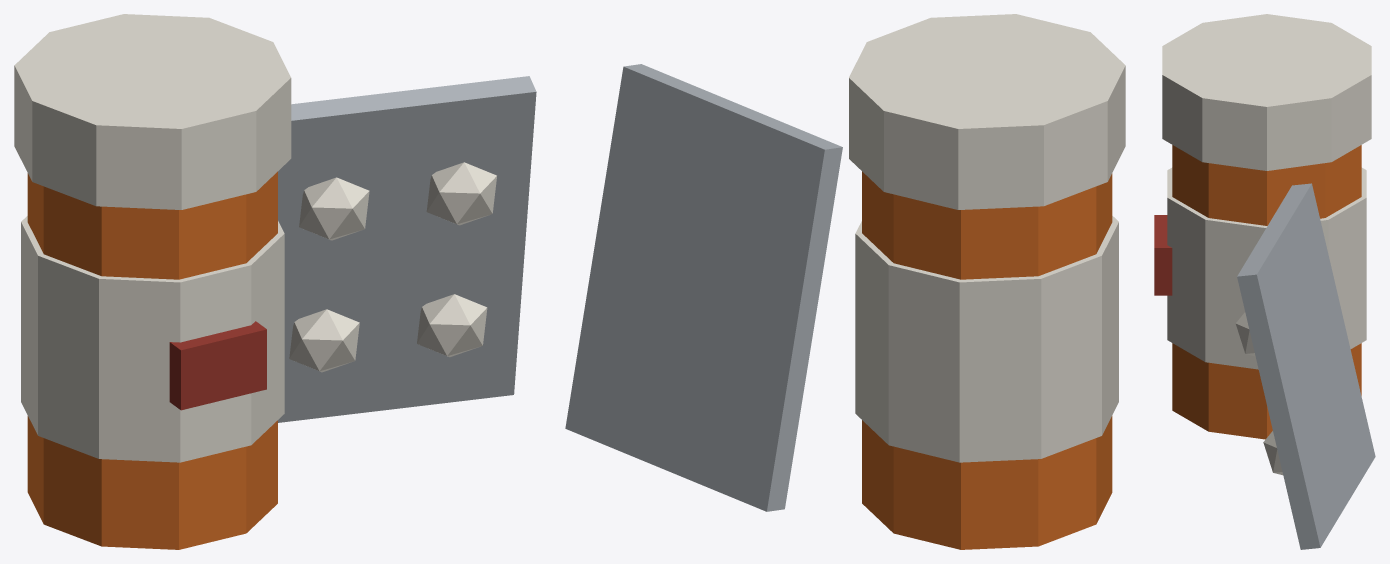
The model's file is antibiotics.glb.
3 views of the same model, side by side, from view 1: azimuth 30°, elevation 25°; view 2: azimuth 150°, elevation 25°; view 3: azimuth 270°, elevation 25° (orthographic). The views are drawn at different scales.
Visible parts, largest first — view 1: antibiotics; view 2: antibiotics; view 3: antibiotics.
Part boxes in pixels (x1,y1,x2,y2): antibiotics: (14, 14, 536, 549); antibiotics: (565, 14, 1125, 549); antibiotics: (1154, 14, 1375, 549).
Bounding box in the file's own units: 0.1772 × 0.144 × 0.0845.
2 materials, 2 textured.
